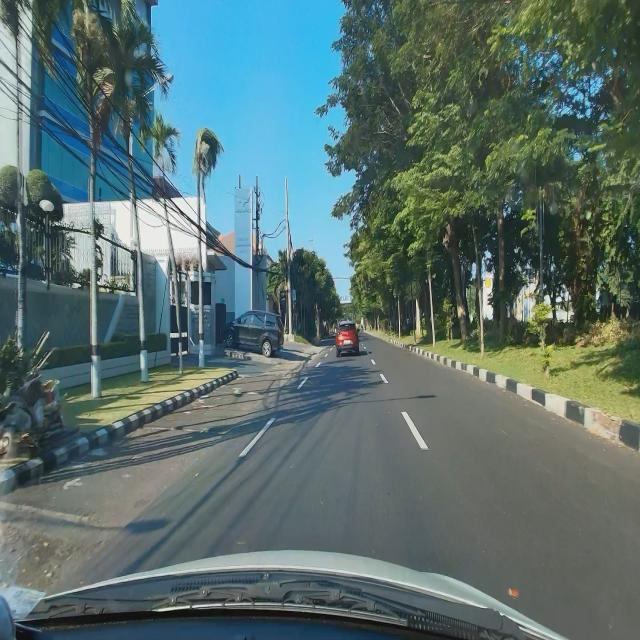car: (336, 318, 360, 358)
